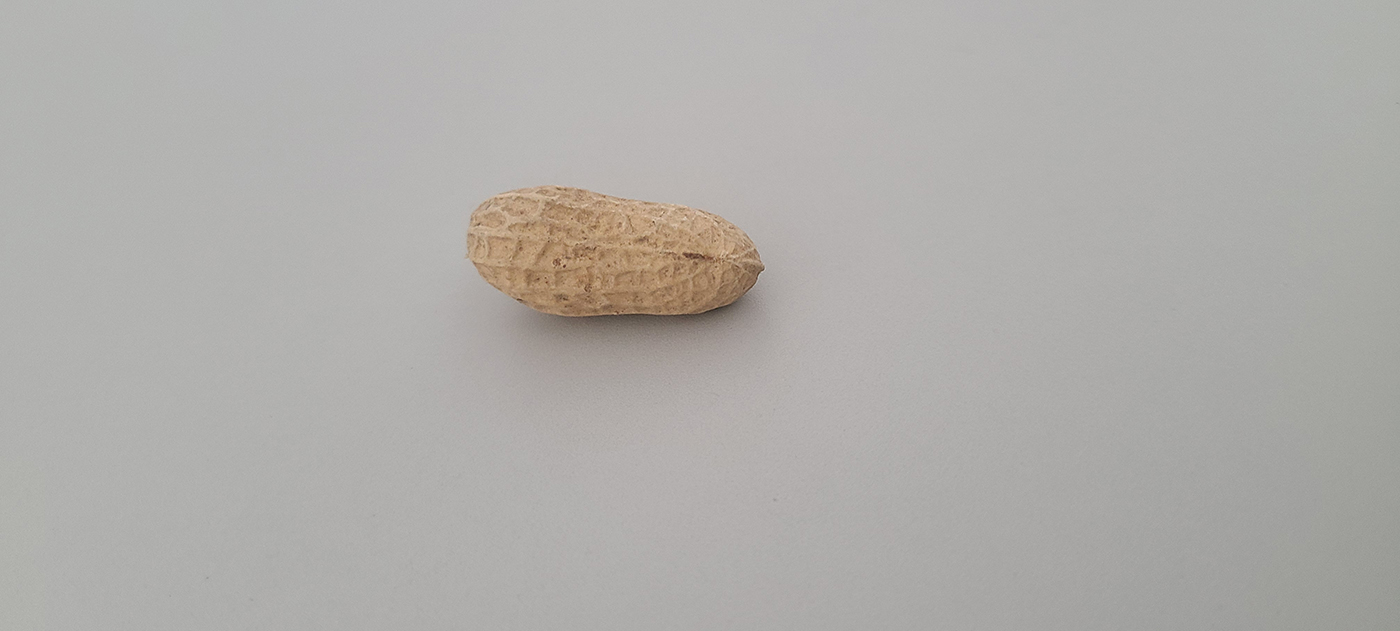h: (469, 184, 764, 315)
